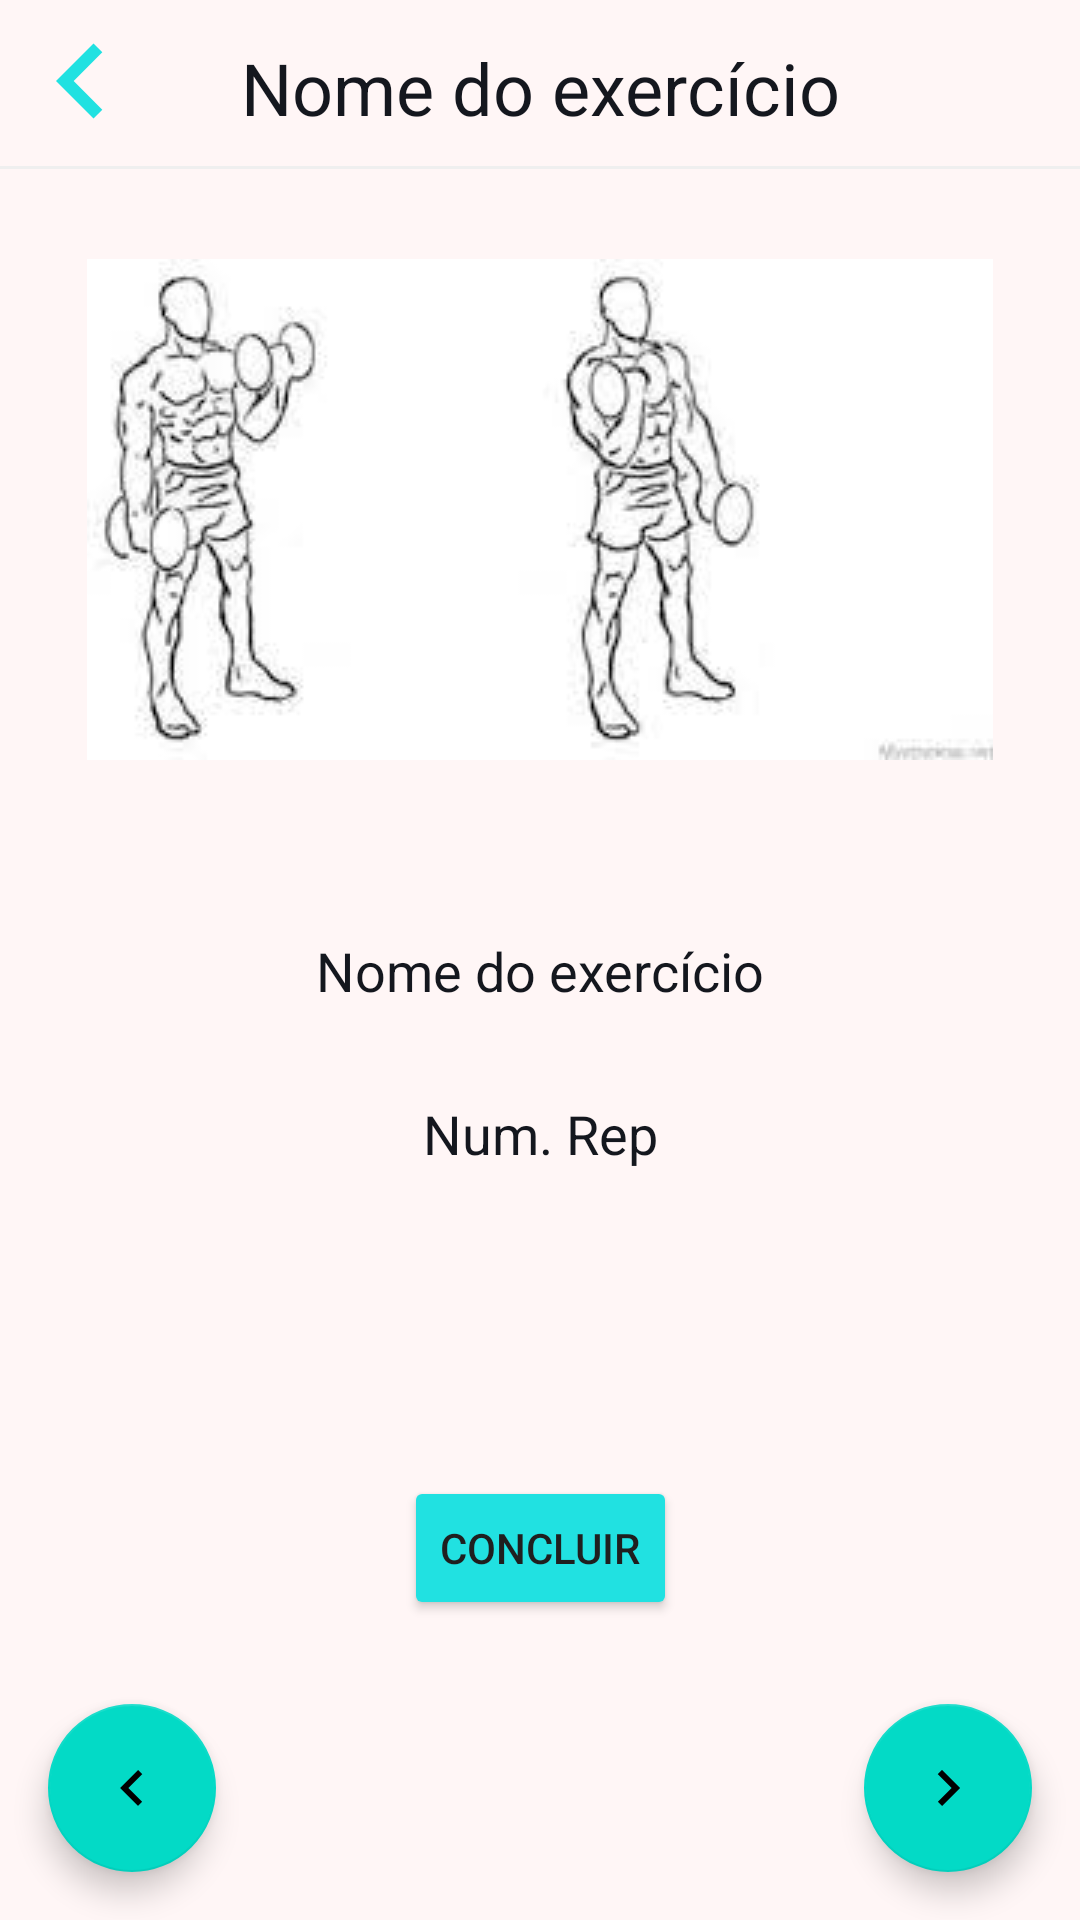

Icons on this 1080×1920 Android screen, each with its box as (x1, y1, x2, y2):
arrow right: (864, 1704, 1032, 1872)
